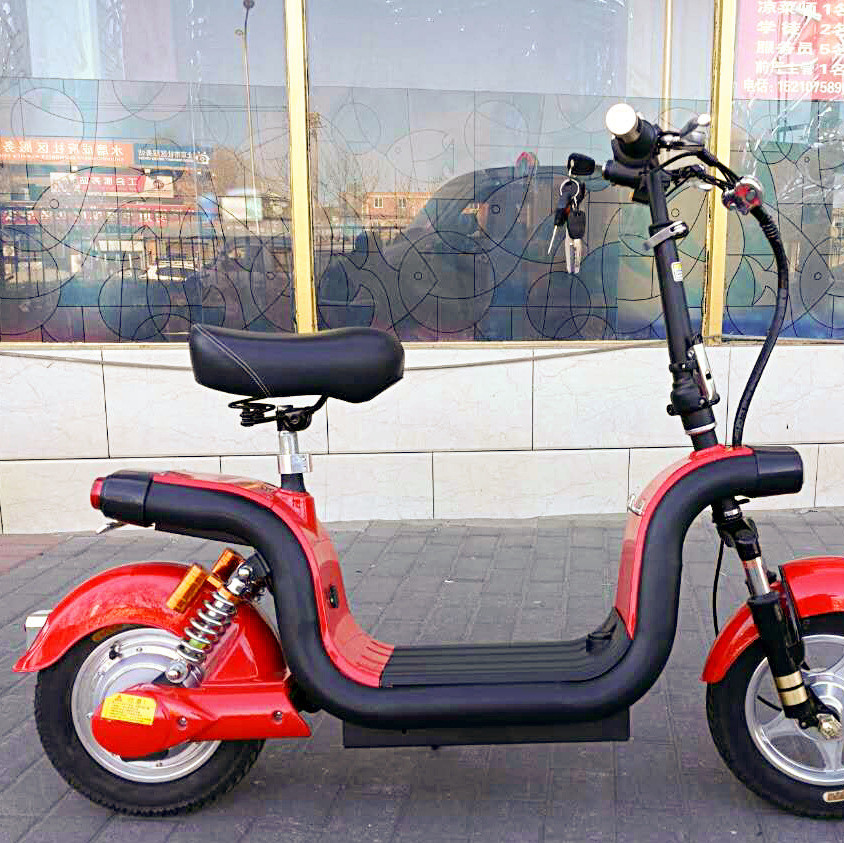电动车: (18, 97, 844, 817)
